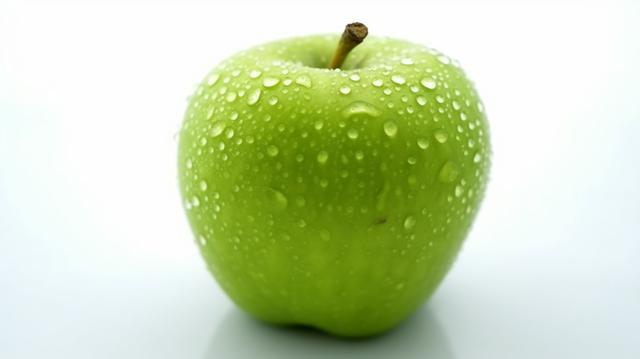apples: (164, 16, 496, 344), (190, 342, 202, 344)
